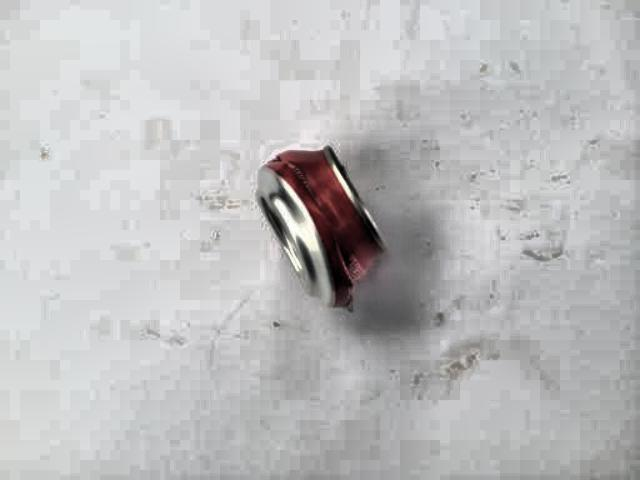Bottles: (220, 133, 424, 339)
